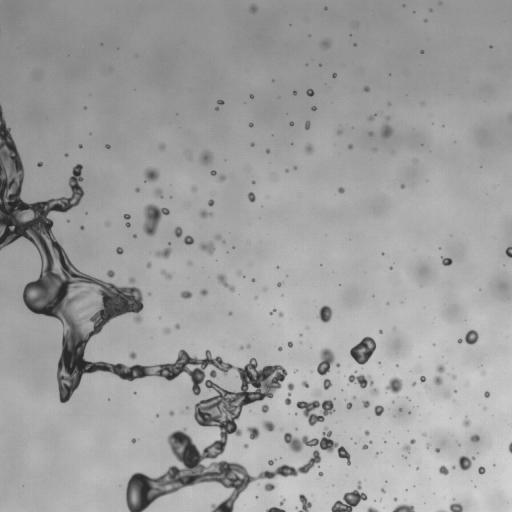droplet: (296, 399, 334, 426), (143, 204, 169, 236), (350, 337, 376, 364), (317, 348, 335, 375), (458, 329, 478, 345), (385, 377, 402, 393), (318, 305, 332, 322), (458, 456, 475, 470), (298, 494, 311, 511), (144, 167, 159, 181), (199, 242, 214, 255), (199, 150, 212, 164), (155, 247, 171, 258), (246, 426, 259, 439), (381, 124, 392, 138), (262, 421, 274, 431), (449, 503, 462, 511), (438, 465, 448, 475), (199, 210, 211, 218), (433, 375, 442, 385), (374, 405, 383, 415), (323, 378, 331, 389), (264, 483, 275, 491), (184, 235, 193, 244), (436, 364, 445, 373), (305, 144, 313, 154), (174, 227, 182, 237), (442, 257, 452, 265), (180, 291, 191, 298), (470, 434, 479, 442), (248, 192, 255, 202), (463, 417, 470, 426), (505, 247, 511, 257), (250, 4, 257, 12), (306, 89, 314, 96), (155, 189, 162, 197), (261, 405, 268, 413), (478, 466, 485, 474), (322, 40, 329, 47), (116, 247, 123, 254), (107, 270, 114, 277), (200, 288, 207, 295), (129, 352, 136, 359), (313, 389, 320, 396), (403, 445, 410, 452), (208, 199, 214, 206), (123, 214, 130, 220), (363, 400, 369, 407), (305, 121, 310, 129), (338, 187, 344, 193), (302, 381, 308, 387), (163, 328, 170, 333), (346, 402, 351, 409), (219, 175, 225, 180), (129, 278, 135, 283), (420, 376, 425, 382), (484, 391, 489, 397), (364, 86, 369, 91), (211, 170, 216, 175), (125, 222, 130, 227), (270, 309, 275, 314), (278, 312, 283, 317), (364, 430, 369, 435), (410, 439, 415, 444), (362, 444, 367, 449), (268, 460, 273, 465), (217, 100, 223, 104), (215, 235, 221, 239), (288, 341, 292, 347), (311, 106, 316, 110), (160, 144, 164, 149), (37, 162, 42, 166), (191, 187, 196, 191), (169, 410, 173, 415), (435, 448, 440, 452), (318, 472, 323, 476), (332, 73, 336, 77), (337, 130, 341, 134), (78, 144, 82, 148), (105, 144, 109, 148), (348, 144, 352, 148), (400, 184, 404, 188), (135, 188, 139, 192), (251, 278, 255, 282), (277, 282, 281, 286), (175, 324, 179, 328), (246, 344, 250, 348), (278, 346, 282, 350), (132, 438, 136, 442), (249, 123, 253, 126), (147, 263, 150, 267), (187, 262, 191, 265), (445, 392, 448, 396), (393, 497, 397, 500), (293, 91, 296, 94), (290, 122, 293, 125), (251, 143, 254, 146), (266, 149, 269, 152), (80, 226, 83, 229), (379, 330, 382, 333), (336, 363, 339, 366), (452, 375, 455, 378), (412, 382, 415, 385), (245, 444, 248, 447), (426, 444, 429, 447), (381, 489, 384, 492), (324, 7, 327, 9), (250, 95, 253, 97), (215, 107, 218, 109), (369, 132, 371, 135), (65, 153, 67, 156), (294, 166, 296, 169), (133, 235, 136, 237), (240, 346, 243, 348), (482, 372, 485, 374), (186, 406, 188, 409), (399, 408, 401, 411), (423, 433, 425, 436), (452, 466, 455, 468), (387, 117, 389, 119), (222, 240, 224, 242), (229, 312, 231, 314), (454, 390, 456, 392), (353, 396, 355, 398), (416, 467, 418, 469)
ligament: (0, 105, 317, 511), (284, 427, 351, 464), (332, 481, 366, 511), (348, 374, 378, 395), (217, 274, 234, 291), (284, 382, 294, 405), (392, 504, 415, 511), (161, 270, 172, 279), (265, 507, 285, 511), (366, 506, 378, 511), (368, 114, 376, 120), (508, 442, 511, 452), (280, 499, 285, 505), (437, 510, 446, 511)
